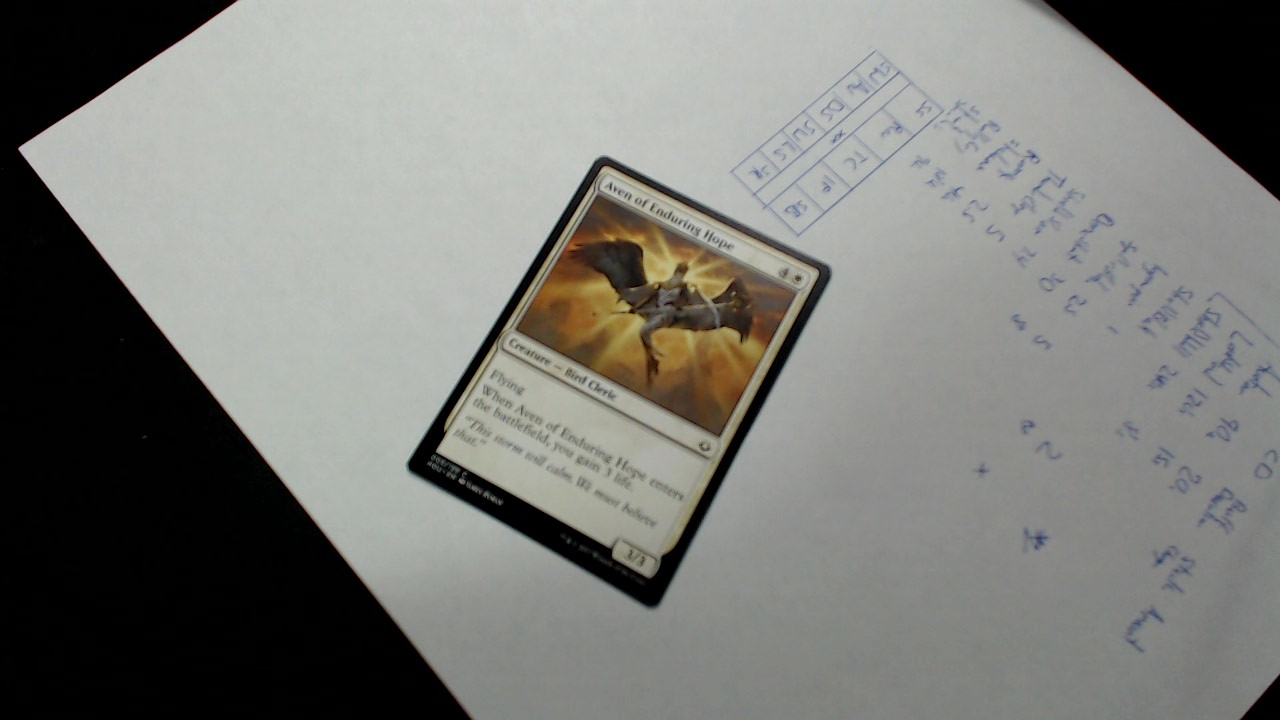MTG Card: (398, 151, 839, 617)
